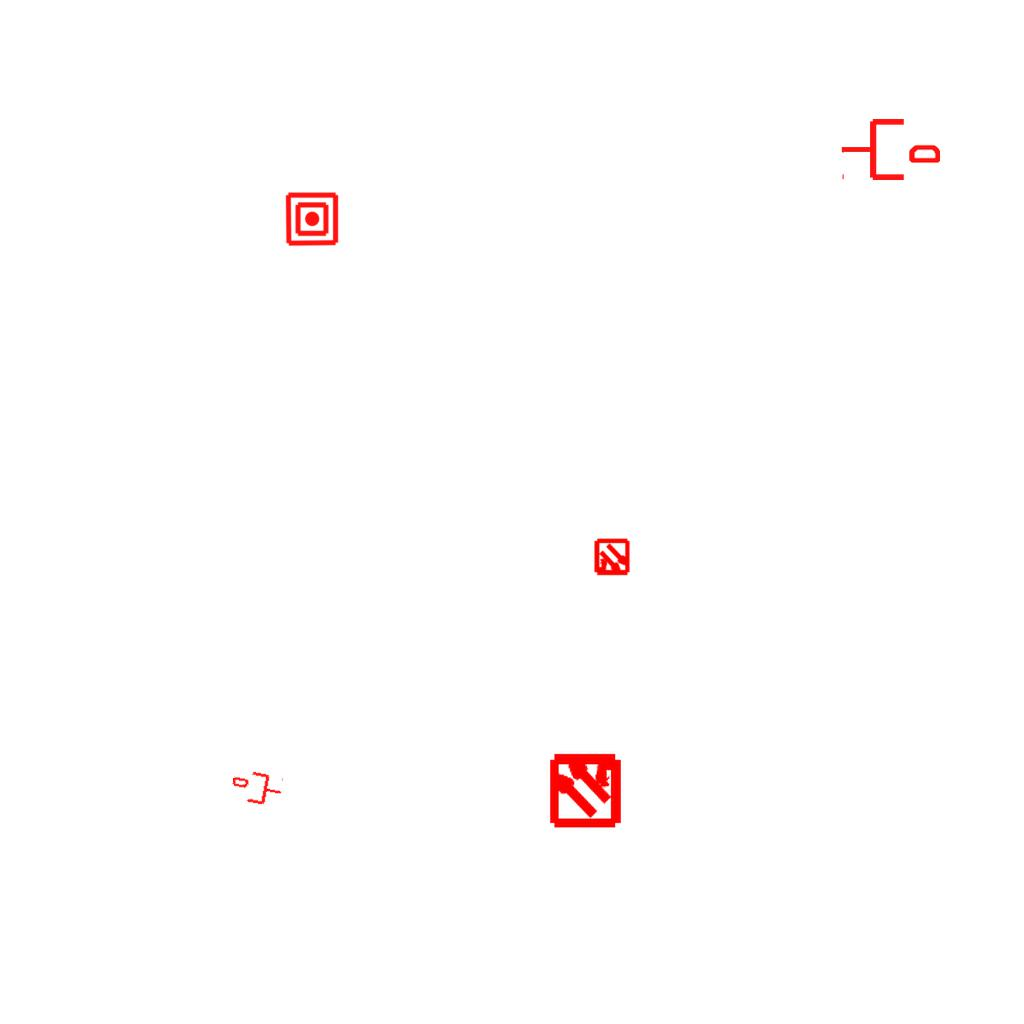Datenanschluss_einfach: (840, 115, 940, 184), (229, 766, 285, 810)
NAM-Nichtautomatischer_Melder: (284, 191, 340, 247)
OT_Multisensormelder_(Kombination_RMO_WMD): (529, 732, 642, 845), (584, 530, 640, 586)
